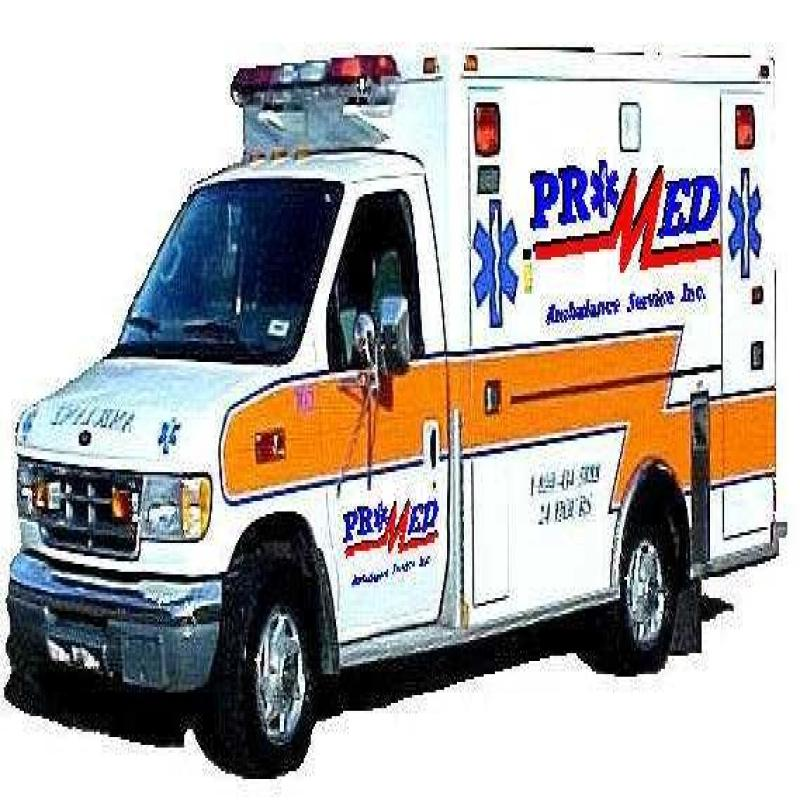AmbulanceSiren: (221, 38, 412, 114)
ambulance: (14, 30, 750, 700)
